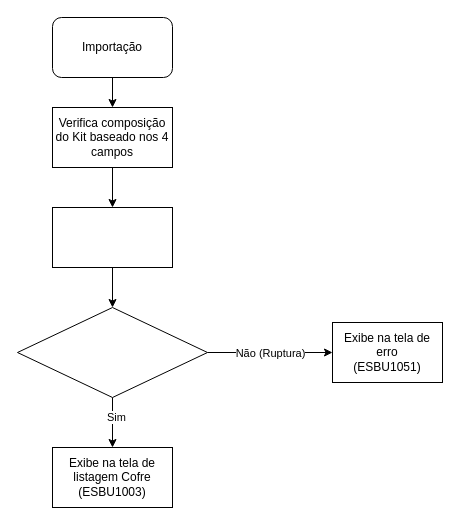
Some shapes in this 460 by 525 pixel diagram are drawn without their labels. Here are the shapes that lost their labels. From the top down, the box of each, then its label:
(52, 206, 172, 268): Para cada item do Kit
(16, 306, 208, 398): Verifica se possui saldo em estoque
